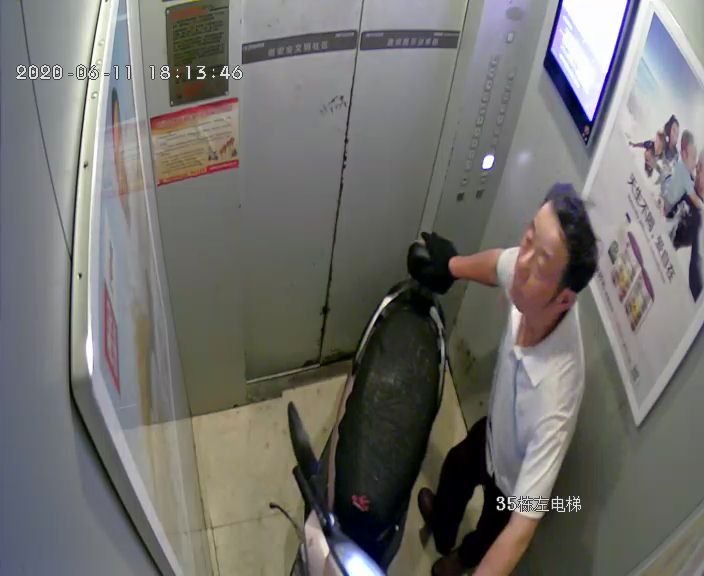Electric-bicycle: (289, 230, 454, 576)
